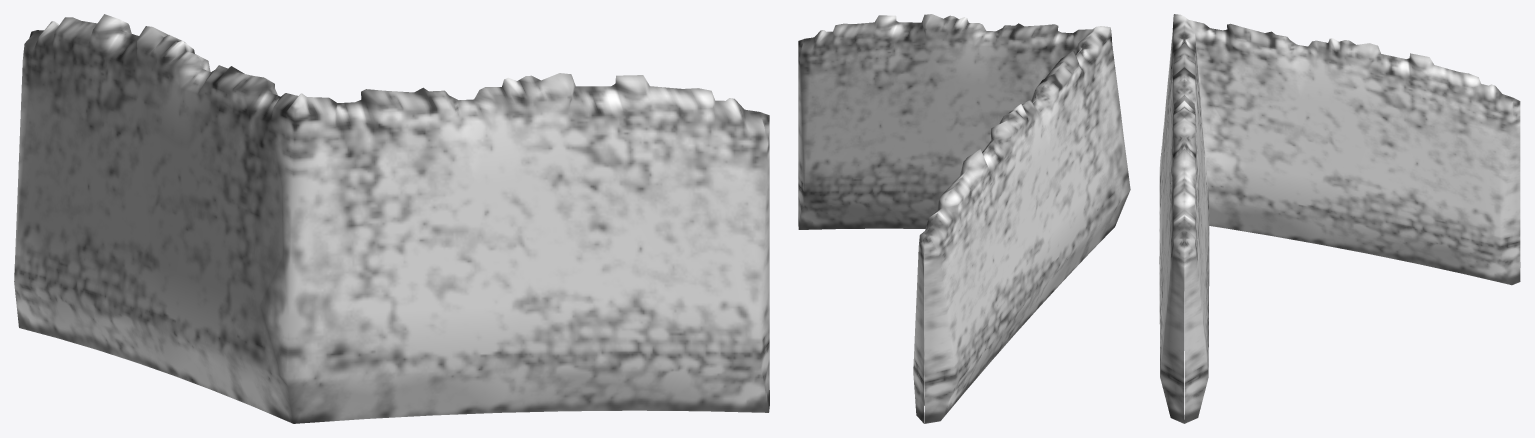
File: Ruins_BigWall006.fbx
The picture shows the model from 3 angles, left to right: view 1: azimuth 30°, elevation 25°; view 2: azimuth 150°, elevation 25°; view 3: azimuth 270°, elevation 25°; orthographic projection. The views are drawn at different scales.
Parts seen in each view (by area): view 1: Ruins_BigWall006; view 2: Ruins_BigWall006; view 3: Ruins_BigWall006.
Boxes of the visible parts, box(x1,y1,x2,y2) form: Ruins_BigWall006: box(14, 14, 769, 423); Ruins_BigWall006: box(798, 14, 1130, 423); Ruins_BigWall006: box(1159, 14, 1520, 423).
Size of the model in its own units: 562 by 456 by 562.
